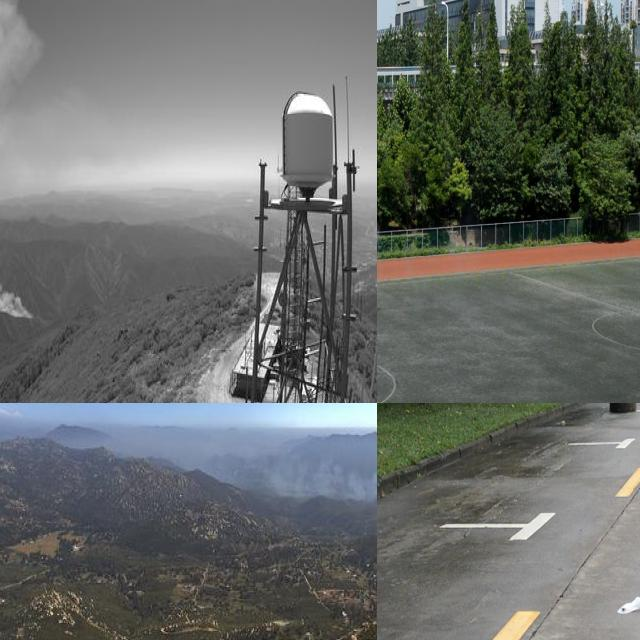smoke: (230, 452, 377, 505)
